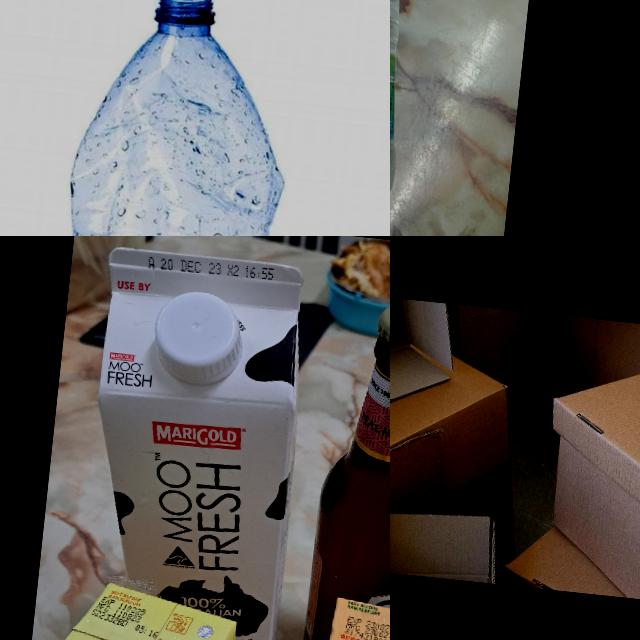caixinha: (63, 245, 316, 640), (38, 574, 253, 640)
garrafa de vidro: (300, 294, 390, 640)
garrafa plástica: (31, 0, 311, 236)
papelão: (390, 338, 537, 567), (533, 351, 640, 619), (501, 500, 640, 625), (390, 287, 460, 445), (390, 496, 502, 583)
tampa plástica: (150, 287, 247, 389)
